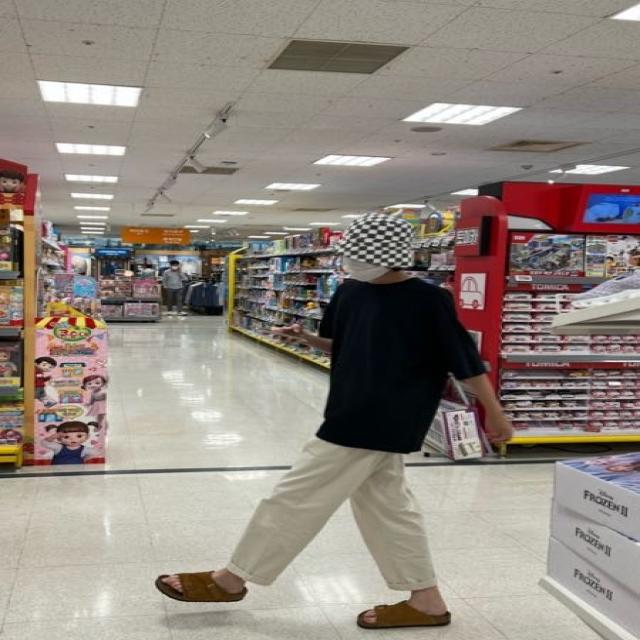cottonpants: (226, 437, 444, 599)
shortsleeve: (312, 280, 486, 458)
